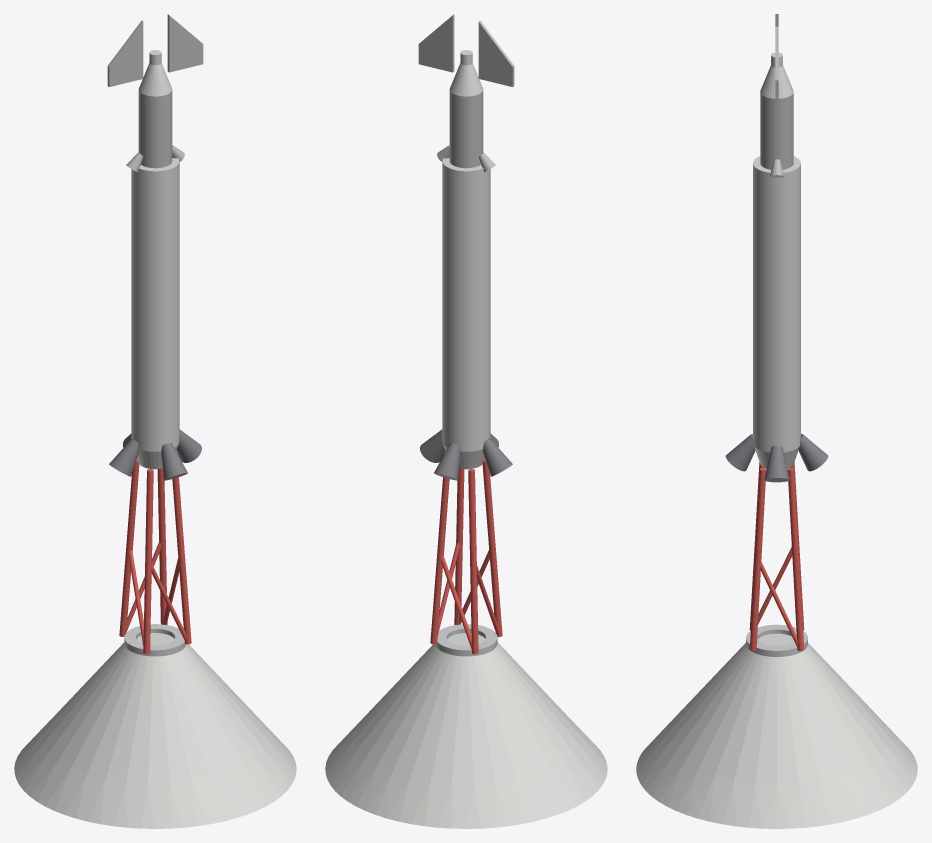
File: prop24_launch_escape_tower_m_canards.glb
The picture shows the model from 3 angles, left to right: view 1: azimuth 30°, elevation 25°; view 2: azimuth 150°, elevation 25°; view 3: azimuth 270°, elevation 25°; orthographic projection.
Visible parts, largest first — view 1: boost_cover, abort_motor, tower_truss, jettison_motor, abort_nozzles, canard_2, canard_1, docking_ring, nose; view 2: boost_cover, abort_motor, tower_truss, jettison_motor, abort_nozzles, canard_2, canard_1, docking_ring, nose; view 3: boost_cover, abort_motor, tower_truss, jettison_motor, abort_nozzles, docking_ring, nose.
Boxes of the visible parts, x1,y1,x2,y2 form: boost_cover: [14, 633, 296, 828]; abort_motor: [131, 157, 179, 469]; tower_truss: [119, 459, 191, 654]; jettison_motor: [126, 90, 184, 172]; abort_nozzles: [109, 429, 201, 480]; canard_2: [107, 20, 143, 86]; canard_1: [167, 14, 203, 72]; docking_ring: [124, 624, 186, 656]; nose: [138, 50, 172, 96]; boost_cover: [325, 633, 607, 828]; abort_motor: [442, 157, 490, 469]; tower_truss: [430, 459, 502, 654]; jettison_motor: [437, 90, 495, 172]; abort_nozzles: [420, 429, 512, 480]; canard_2: [478, 20, 514, 86]; canard_1: [418, 14, 454, 72]; docking_ring: [435, 624, 497, 656]; nose: [449, 50, 483, 96]; boost_cover: [636, 633, 917, 828]; abort_motor: [753, 156, 800, 468]; tower_truss: [749, 462, 804, 651]; jettison_motor: [760, 93, 793, 177]; abort_nozzles: [725, 434, 828, 482]; docking_ring: [746, 624, 807, 656]; nose: [760, 52, 793, 98].
Bounding box in the file's own units: 2.5 × 7.34 × 2.5.
